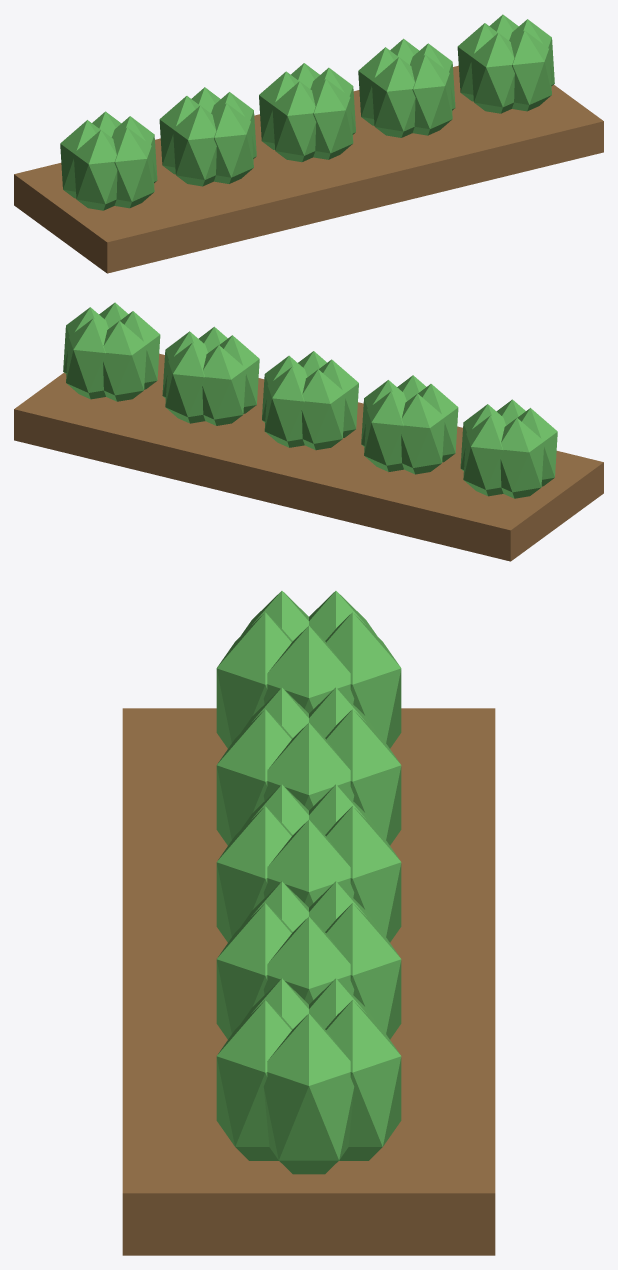
The model's file is TR3_CropRow_Pechay.glb.
3 views of the same model, one above another, from view 1: azimuth 30°, elevation 25°; view 2: azimuth 150°, elevation 25°; view 3: azimuth 270°, elevation 25° (orthographic). The views are drawn at different scales.
Parts seen in each view (by area): view 1: TR3_CropRow_Pechay; view 2: TR3_CropRow_Pechay; view 3: TR3_CropRow_Pechay.
Boxes of the visible parts, bbox=[...] form: TR3_CropRow_Pechay: bbox=[14, 14, 603, 273]; TR3_CropRow_Pechay: bbox=[14, 302, 603, 561]; TR3_CropRow_Pechay: bbox=[122, 591, 495, 1255].
Bounding box in the file's own units: 2 × 0.41 × 0.65.
